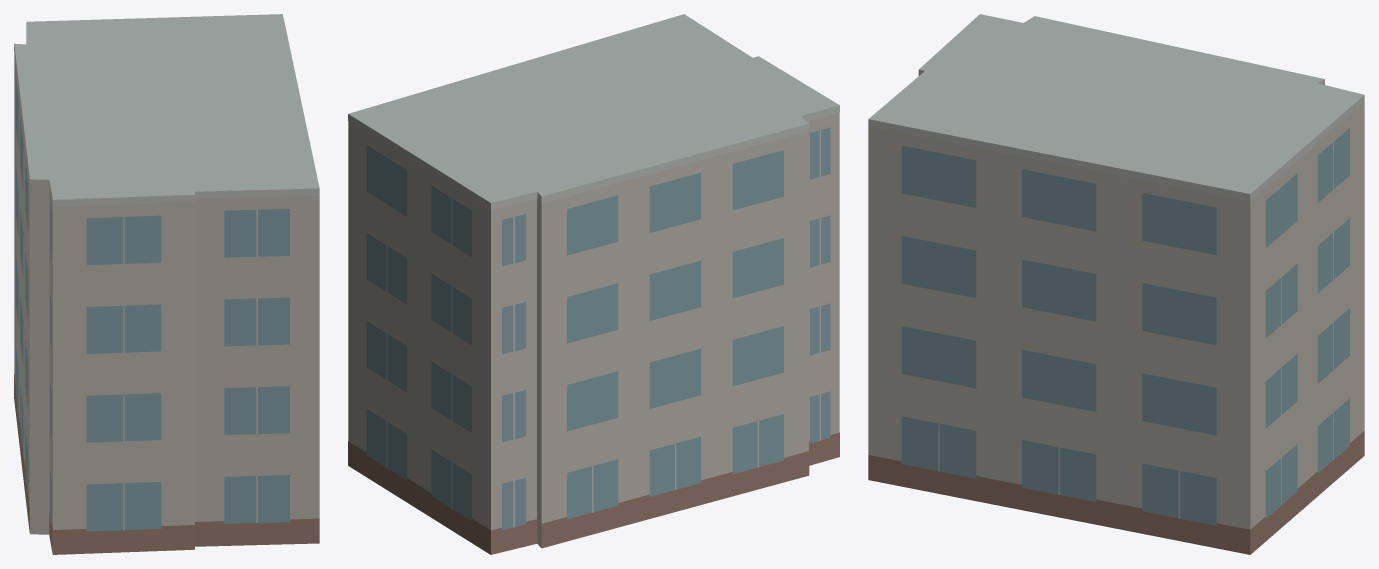
Rendered from survey-upis-32988950.glb.
3 renders of one model, left to right at view 1: azimuth 30°, elevation 25°; view 2: azimuth 150°, elevation 25°; view 3: azimuth 270°, elevation 25°, orthographic. The views are drawn at different scales.
Visible parts, largest first — view 1: survey-upis-32988950.tmp; view 2: survey-upis-32988950.tmp; view 3: survey-upis-32988950.tmp.
Boxes of the visible parts, x1,y1,x2,y2 form: survey-upis-32988950.tmp: (14, 14, 319, 554); survey-upis-32988950.tmp: (348, 14, 839, 554); survey-upis-32988950.tmp: (868, 14, 1364, 554).
Bounding box in the file's own units: 12.74 × 11.9 × 14.84.
